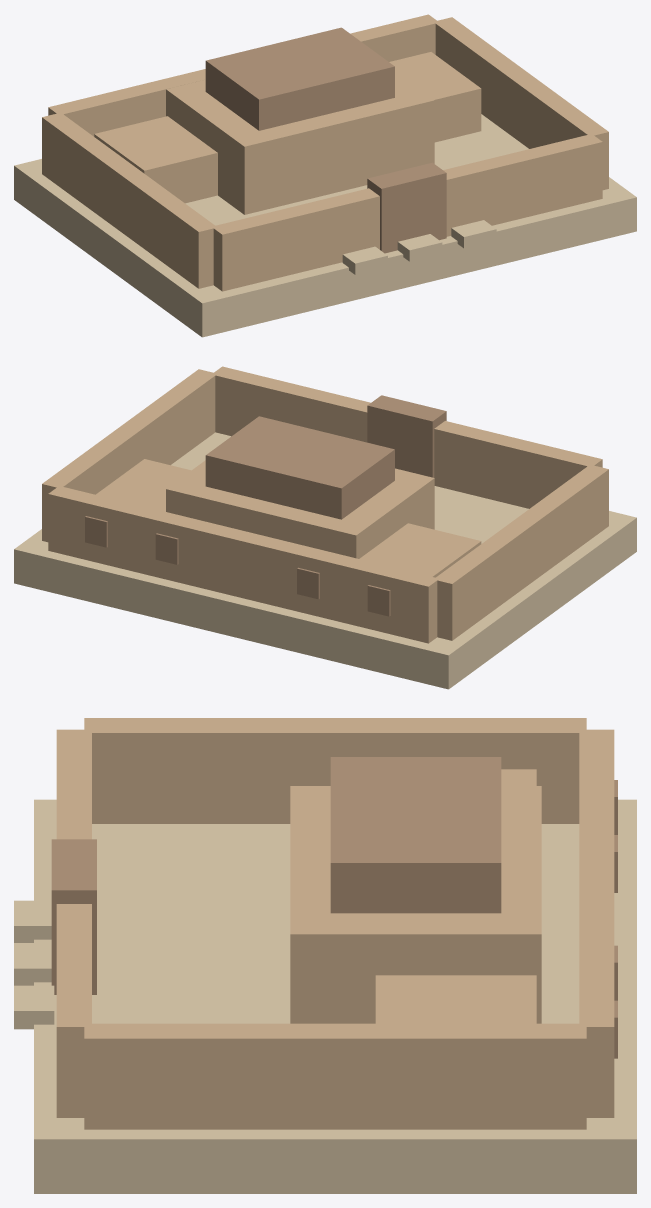
File: chimu_compound_lod0.glb
3 renders of one model, top to bottom at view 1: azimuth 30°, elevation 25°; view 2: azimuth 150°, elevation 25°; view 3: azimuth 270°, elevation 25°, orthographic. The views are drawn at different scales.
Visible parts, largest first — view 1: chimu_compound; view 2: chimu_compound; view 3: chimu_compound.
Part boxes in pixels (left/top/right/bottom): chimu_compound: left=14, top=14, right=636, bottom=337; chimu_compound: left=14, top=366, right=636, bottom=689; chimu_compound: left=14, top=718, right=636, bottom=1193.
Size of the model in its own units: 16 by 4.7 by 12.4.
